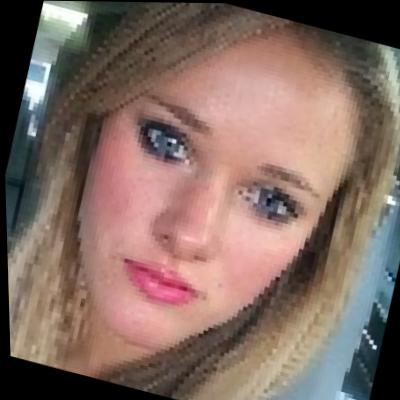sad: (35, 0, 385, 393)
